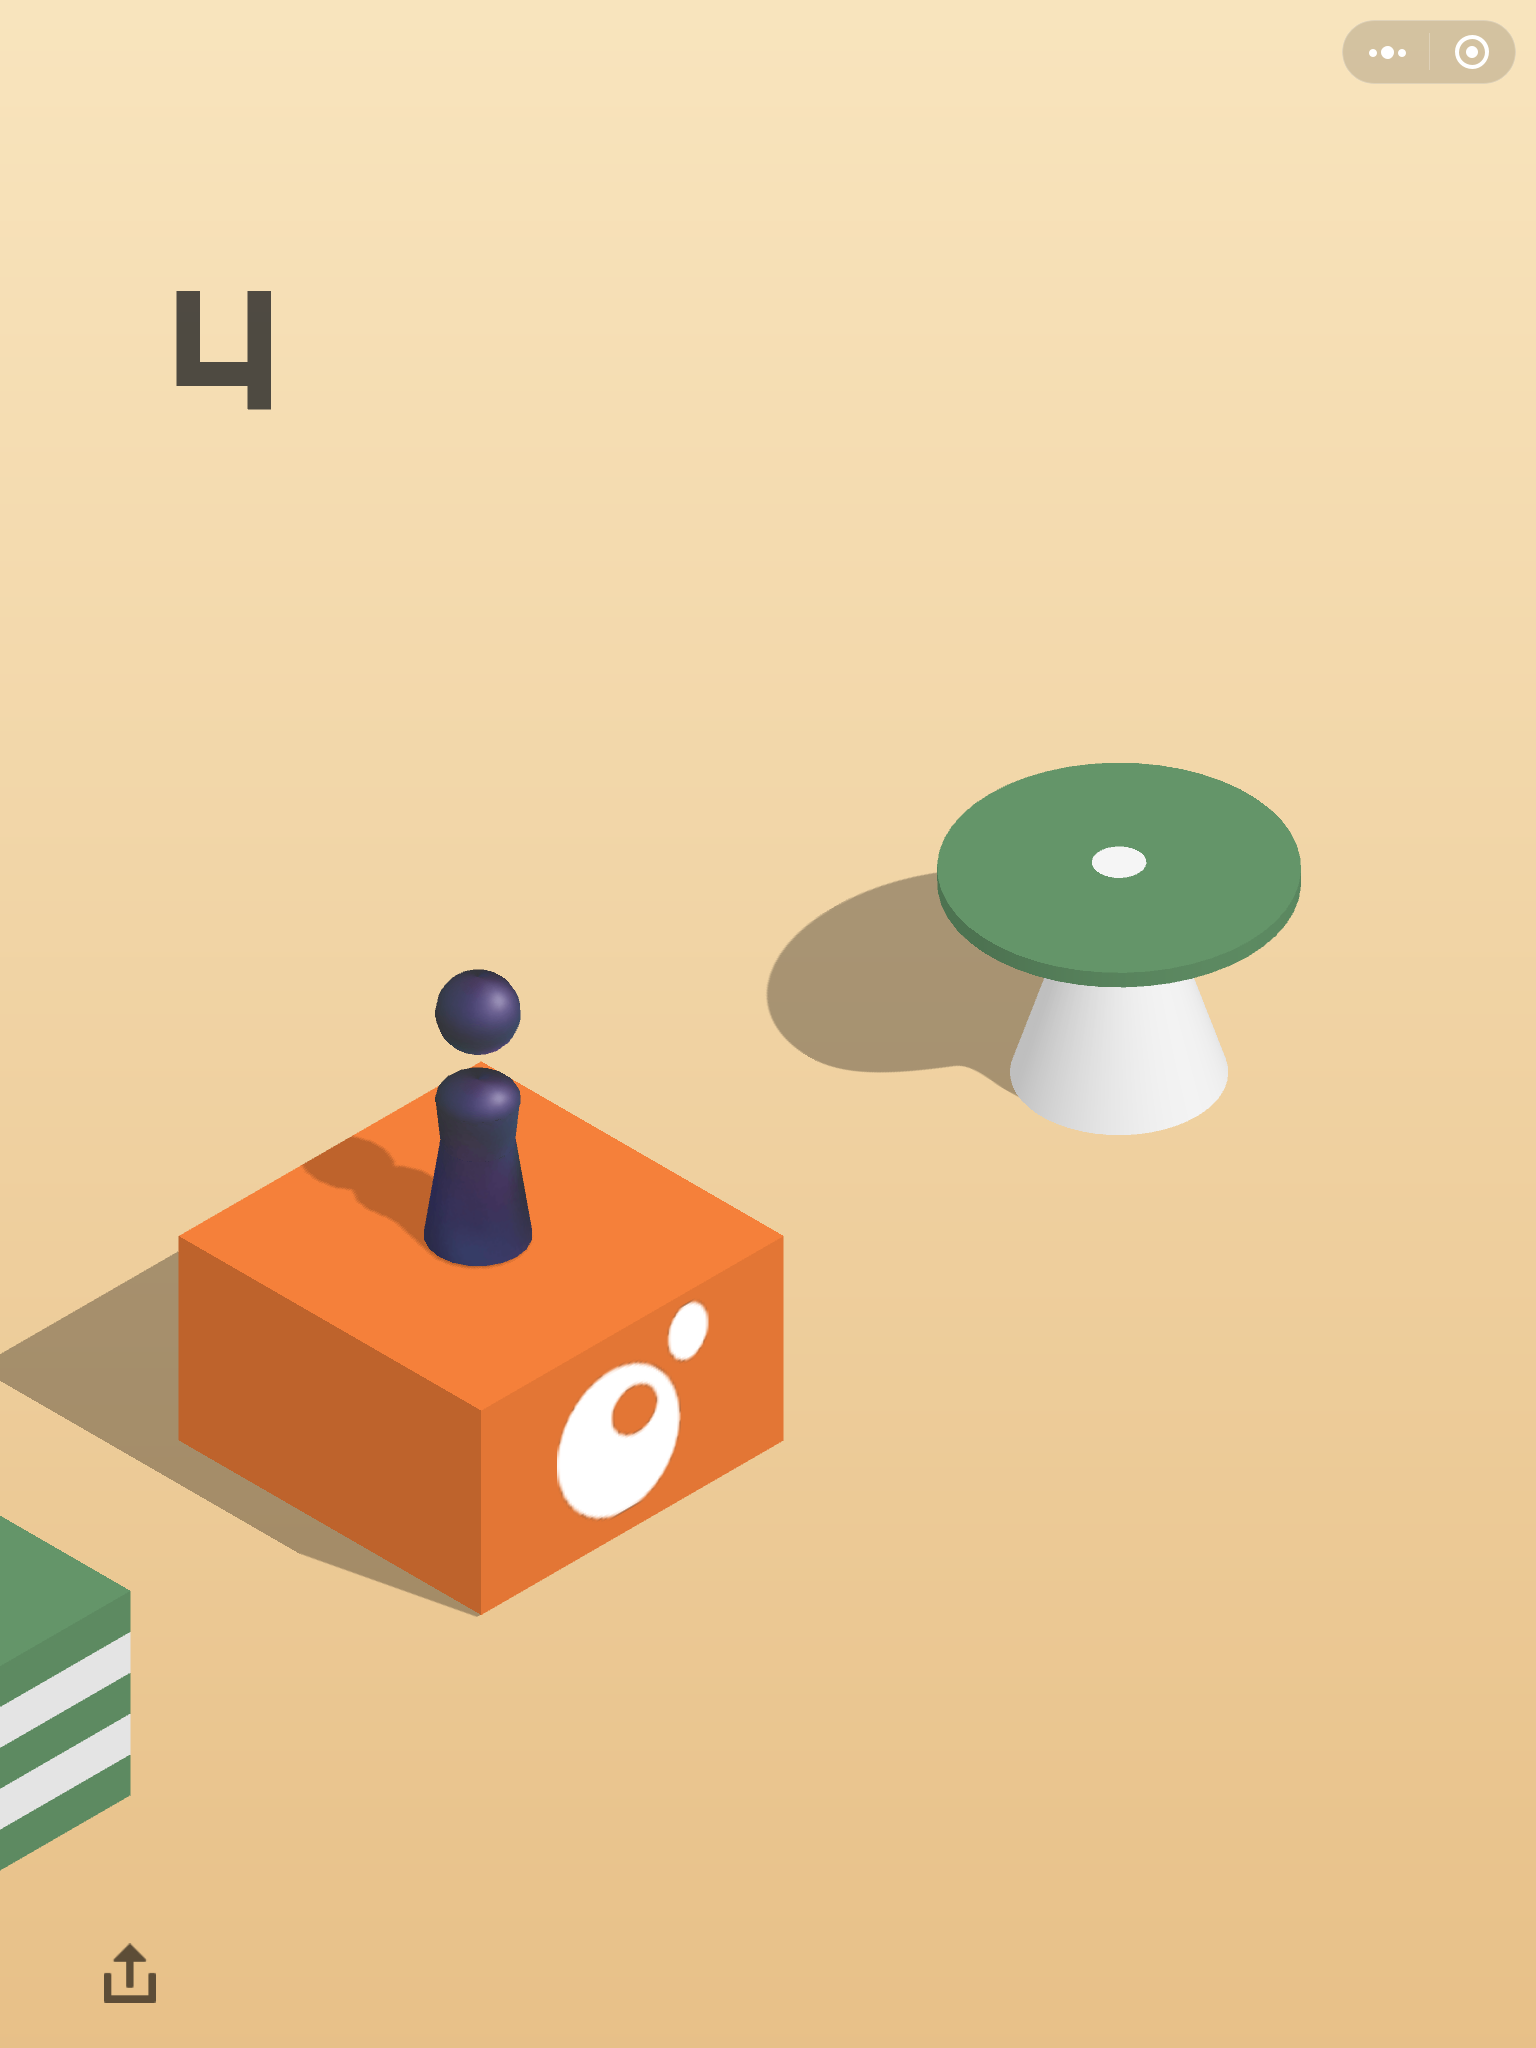c: (928, 755, 1310, 1143)
f: (168, 1059, 791, 1622), (2, 1513, 134, 1880)
r: (416, 959, 541, 1274)
